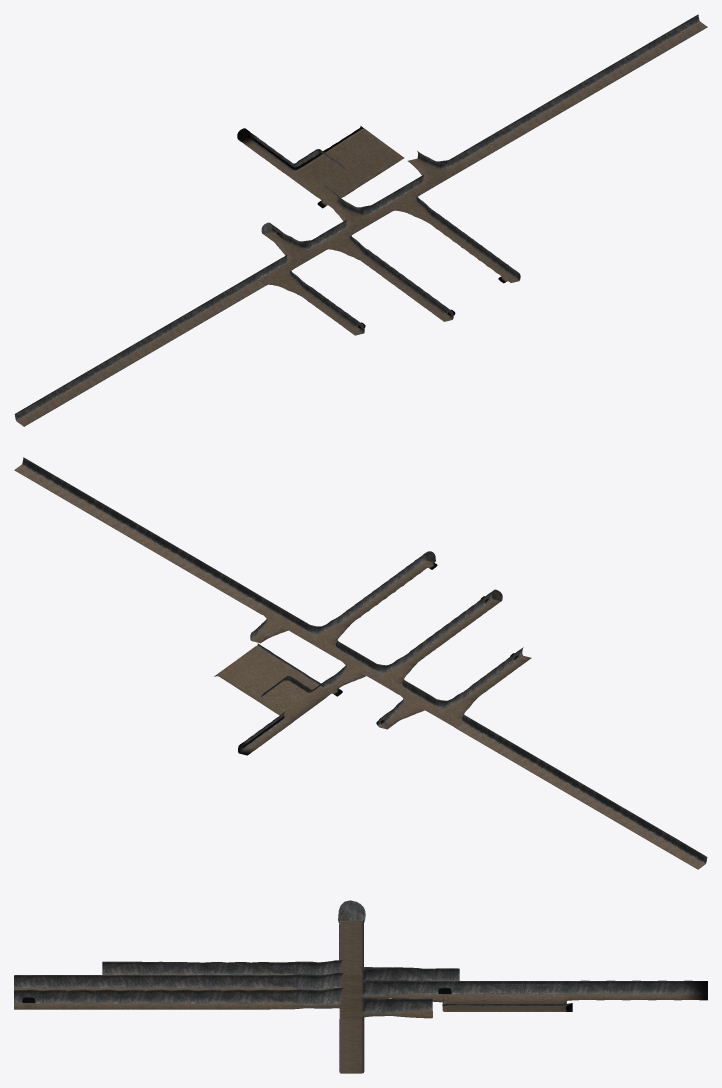
The model's file is SlopeB.glb.
3 views of the same model, one above another, from view 1: azimuth 30°, elevation 25°; view 2: azimuth 150°, elevation 25°; view 3: azimuth 270°, elevation 25° (orthographic). The views are drawn at different scales.
Parts seen in each view (by area): view 1: SlopeB; view 2: SlopeB; view 3: SlopeB.
Boxes of the visible parts, x1,y1,x2,y2 form: SlopeB: (14,14,707,426); SlopeB: (14,457,707,869); SlopeB: (14,900,707,1073).
Size of the model in its own units: 146 by 49.78 by 84.67.
6 materials, 6 textured.
